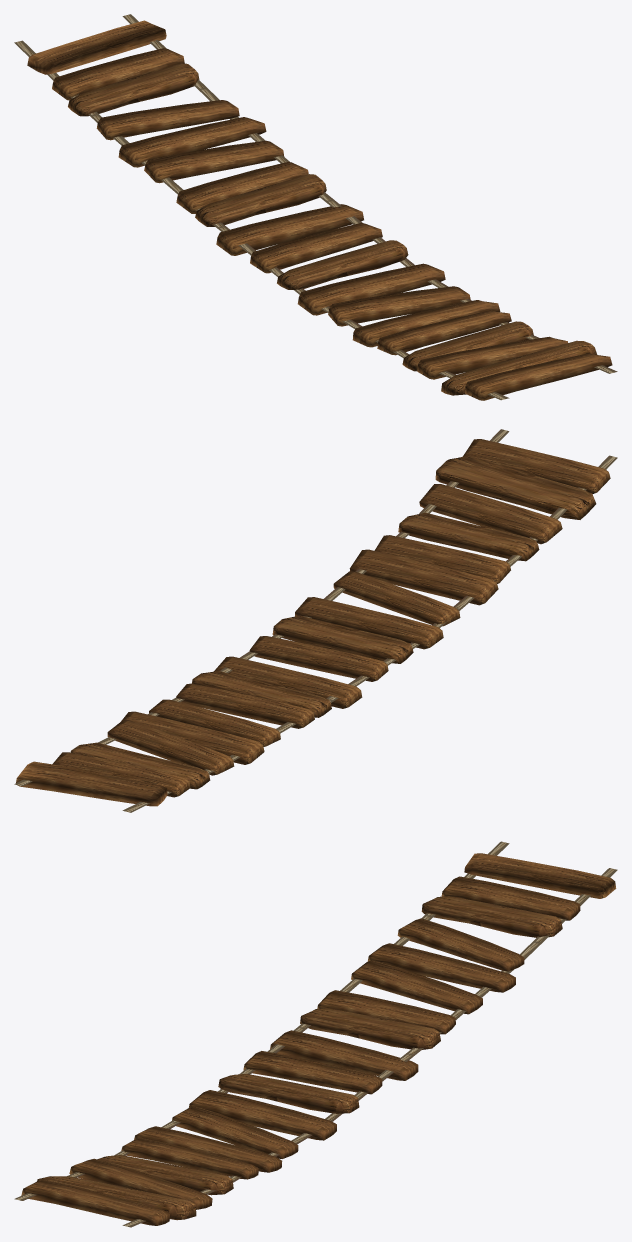
File: stairs_03.FBX
3 renders of one model, top to bottom at view 1: azimuth 30°, elevation 25°; view 2: azimuth 150°, elevation 25°; view 3: azimuth 330°, elevation 25°, orthographic.
Parts seen in each view (by area): view 1: stairs_03; view 2: stairs_03; view 3: stairs_03.
Part boxes in pixels (box(x1,y1,x2,y2)): stairs_03: box(14, 14, 617, 400); stairs_03: box(14, 429, 617, 812); stairs_03: box(14, 841, 617, 1227).
Size of the model in its own units: 30.32 by 10.18 by 173.
